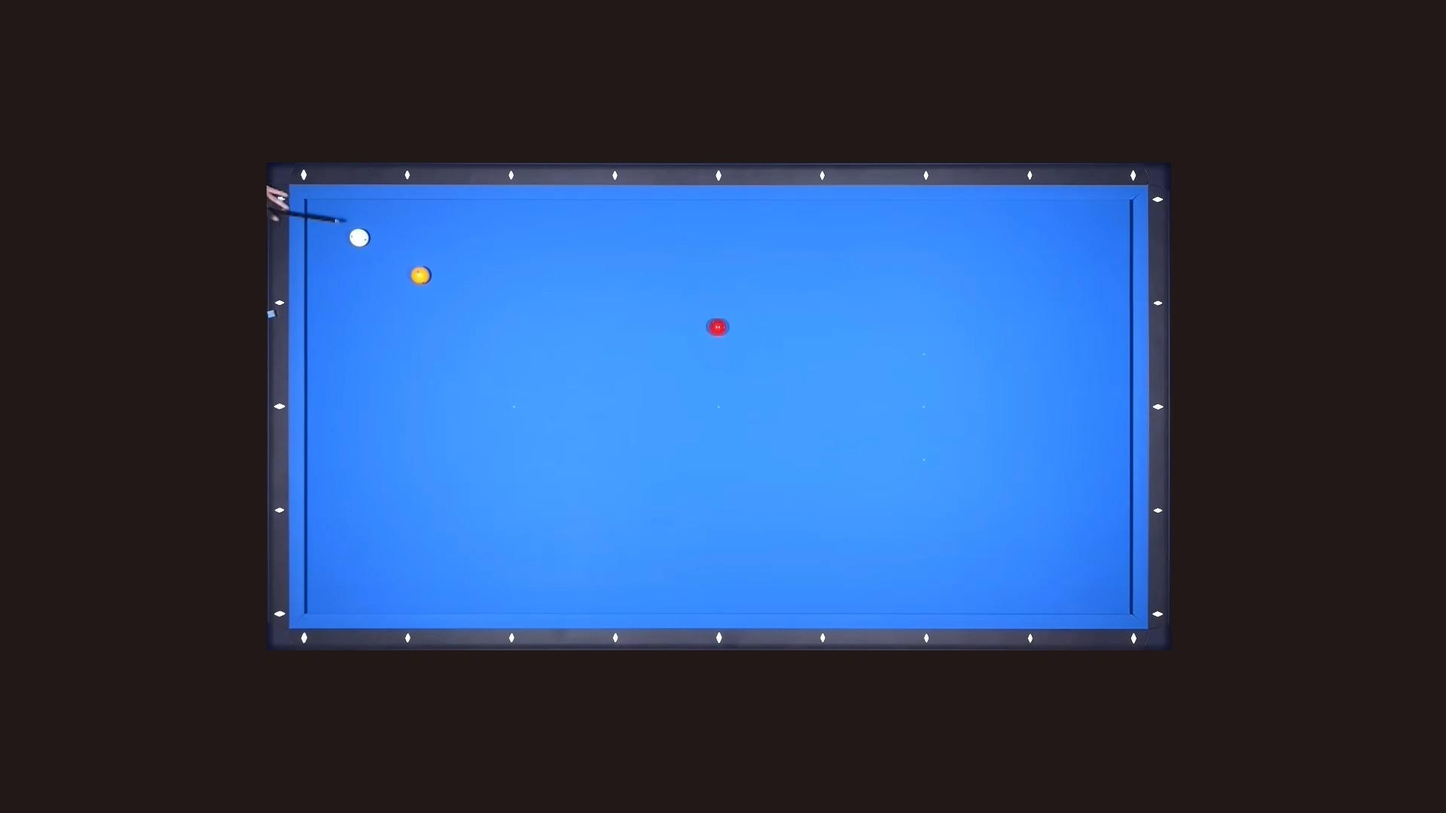-billiard-ball: (409, 265, 430, 285)
Red: (707, 319, 731, 337)
White: (344, 228, 370, 248)
Yellow: (406, 266, 432, 286)
